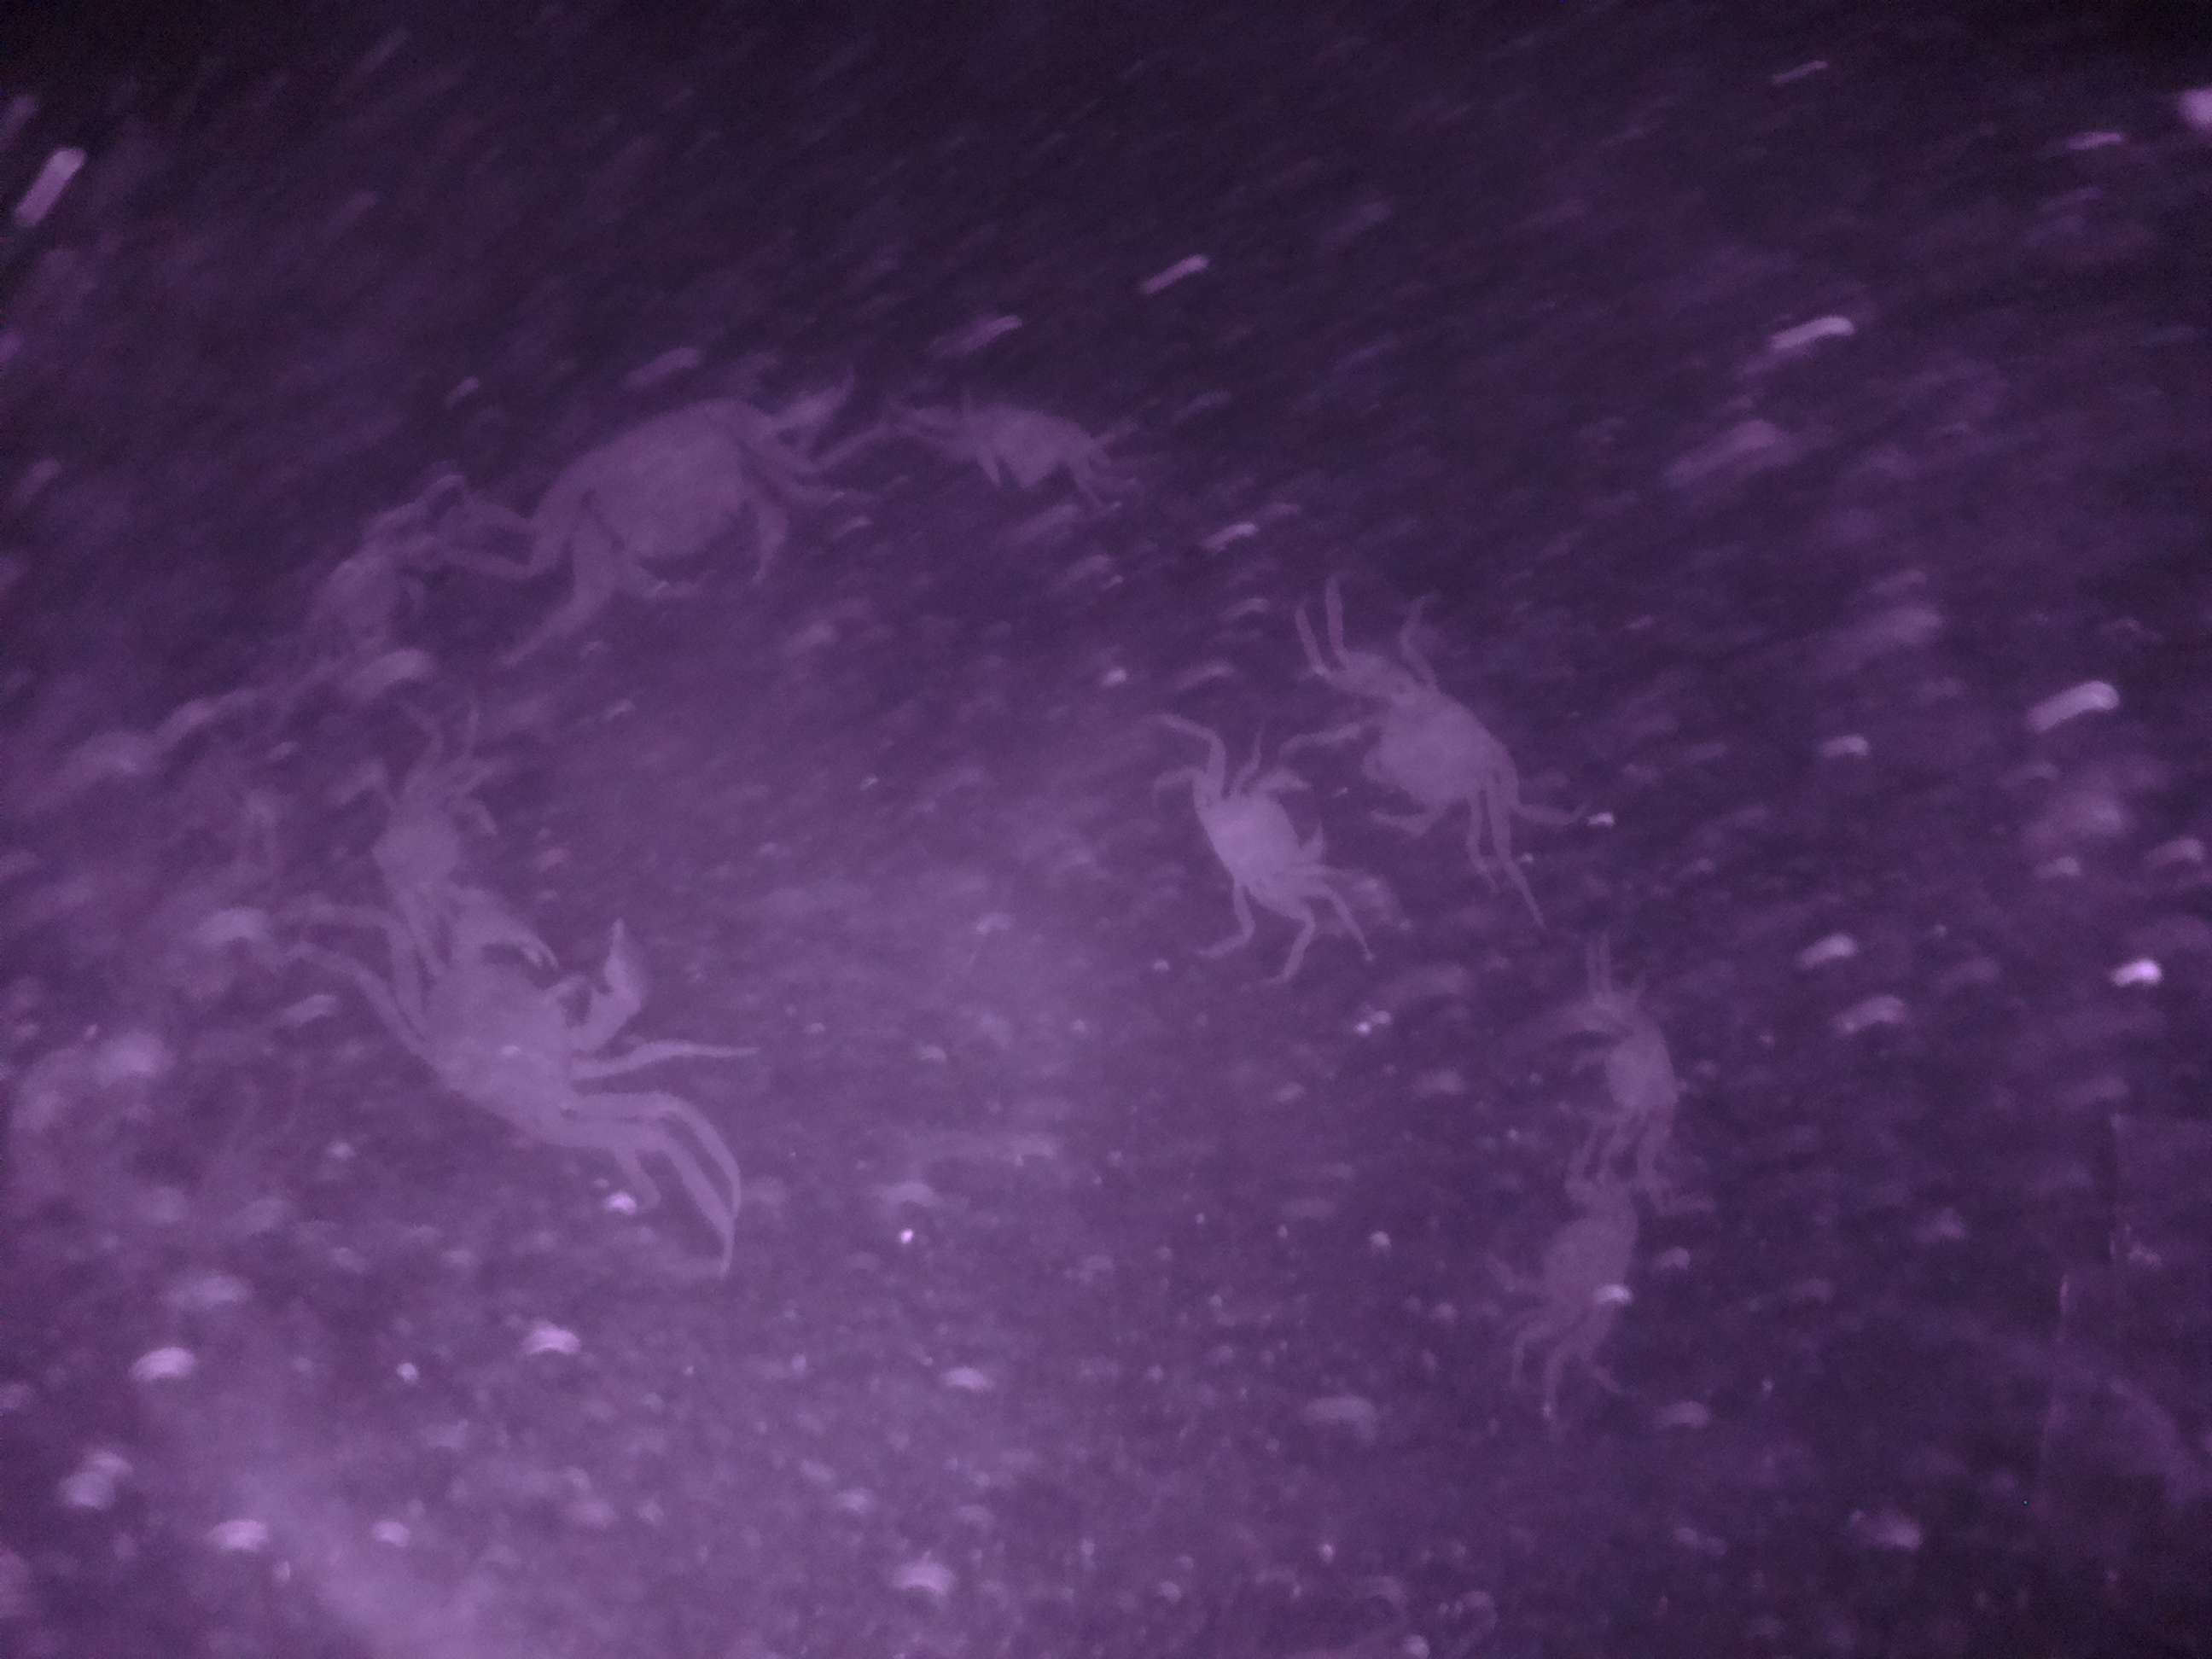Crab: (1348, 671, 1536, 847), (1167, 755, 1341, 910)
